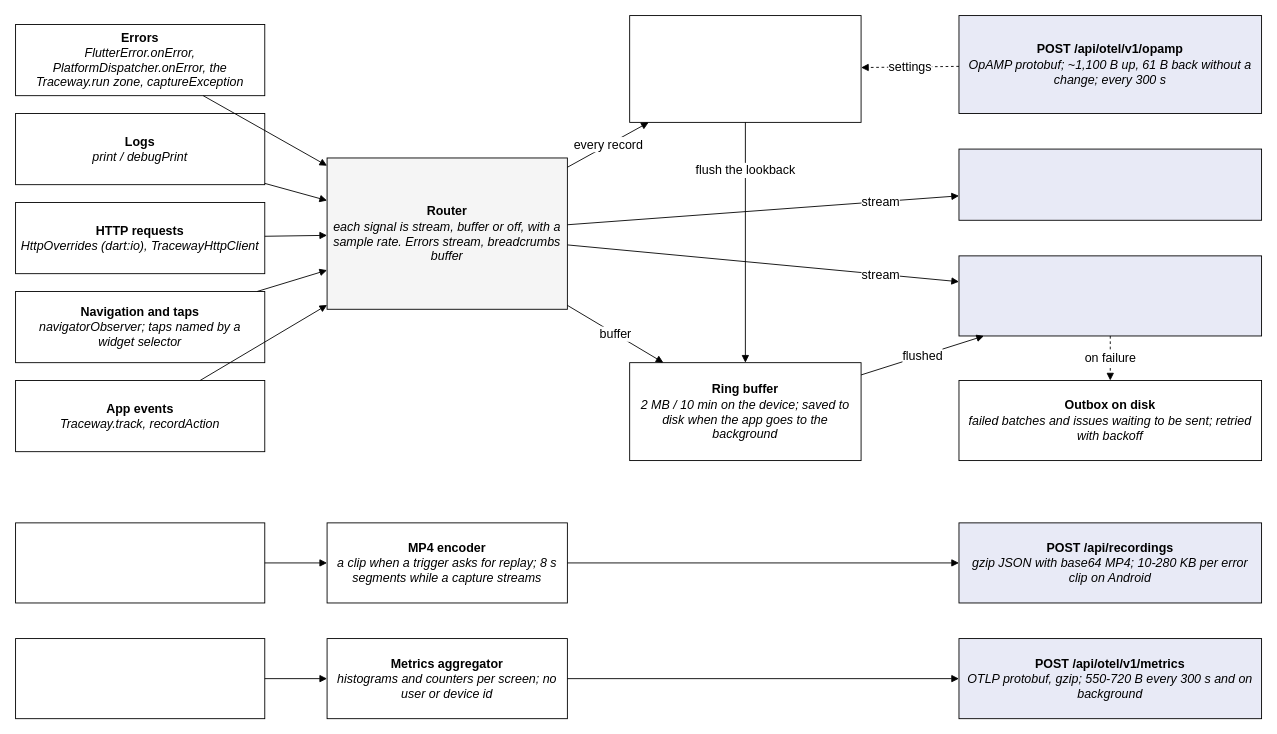
The diagram is 1277 pixels wide and 734 high, and some of its shapes have lost their labels. The centre of each missing label's shape, as x and y in pixels:
App vitals start, screen display, frames, hangs, requests, sessions: point (140, 678)
POST /api/otel/v1/logs OTLP protobuf, gzip; median ~800 B per batch: point (1110, 295)
POST /api/otel/v1/traces OTLP protobuf, gzip; client spans of HTTP requests: point (1110, 184)
Screen frames 15 fps into a 150-frame ring (~10 s), PNG in memory: point (140, 562)
Triggers built-in error clip, rules from the dashboard, captures: point (745, 68)
